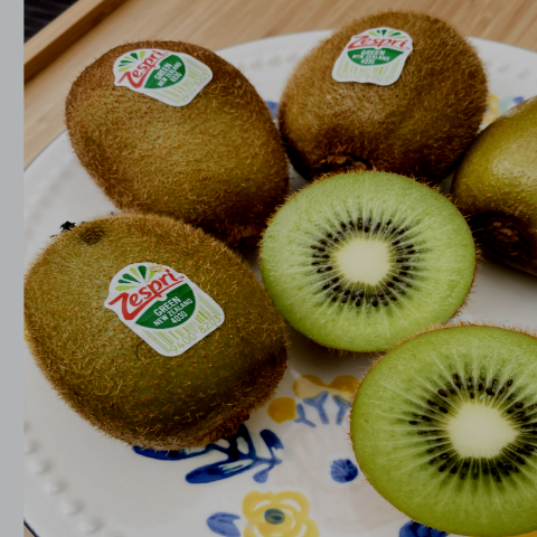kiwi: (11, 195, 320, 448), (66, 18, 285, 259), (265, 5, 510, 195)
